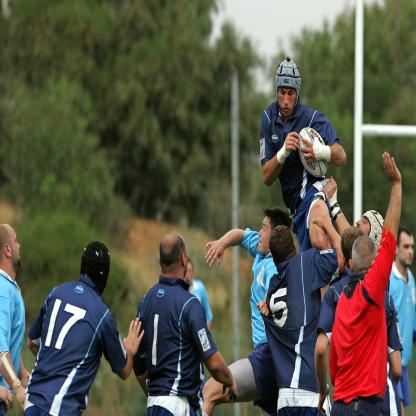Helmet: (74, 241, 115, 303), (274, 55, 301, 119)
